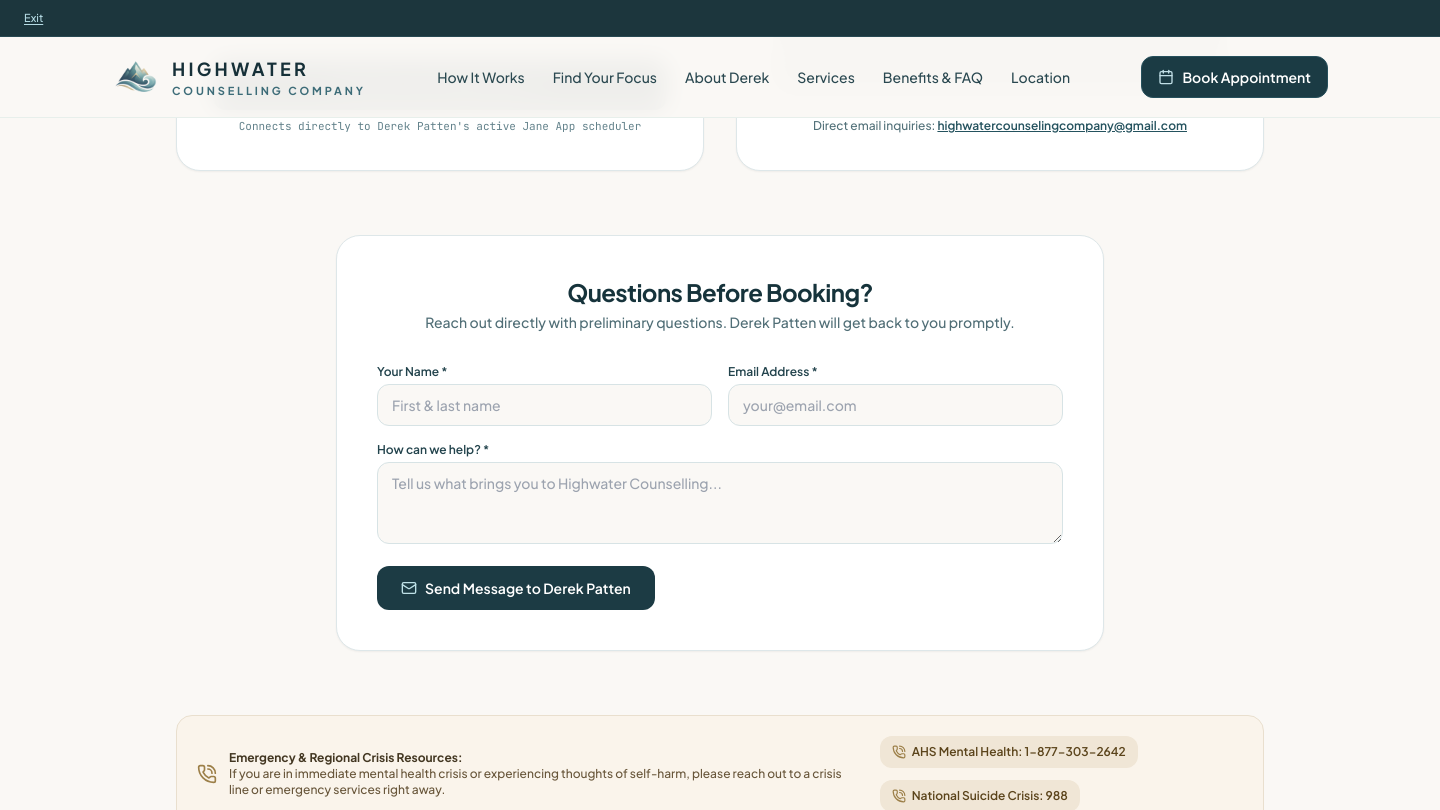
Test case: HighwaterDraft Component › submits inquiry form with valid fields
(page scrolled)
In the field with placeholder "First & last name": (544, 405) top-left (377, 384), bottom-right (712, 426), type "Jane Client"
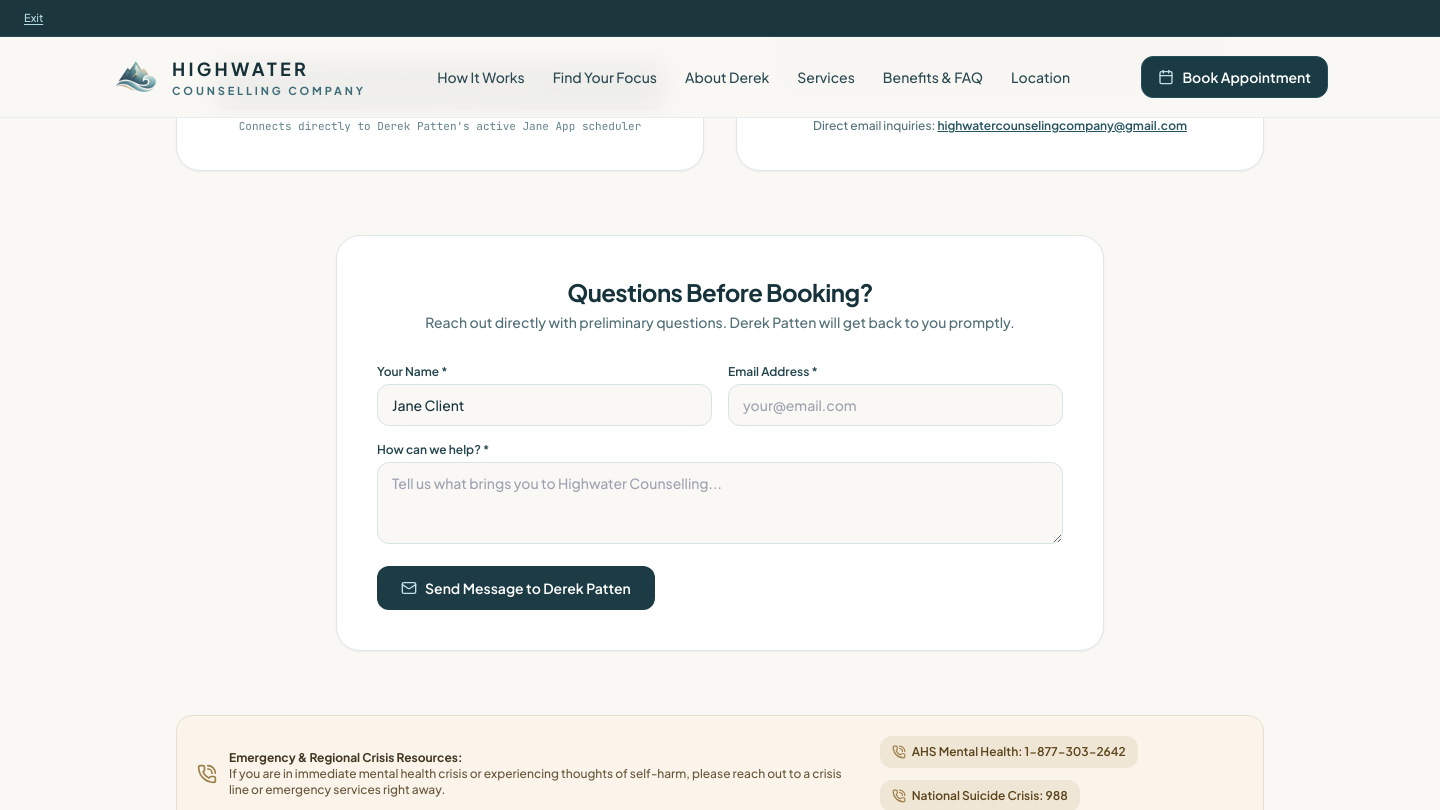
In the field with placeholder "your@email.com": (896, 405) top-left (728, 384), bottom-right (1063, 426), type "jane@example.com"
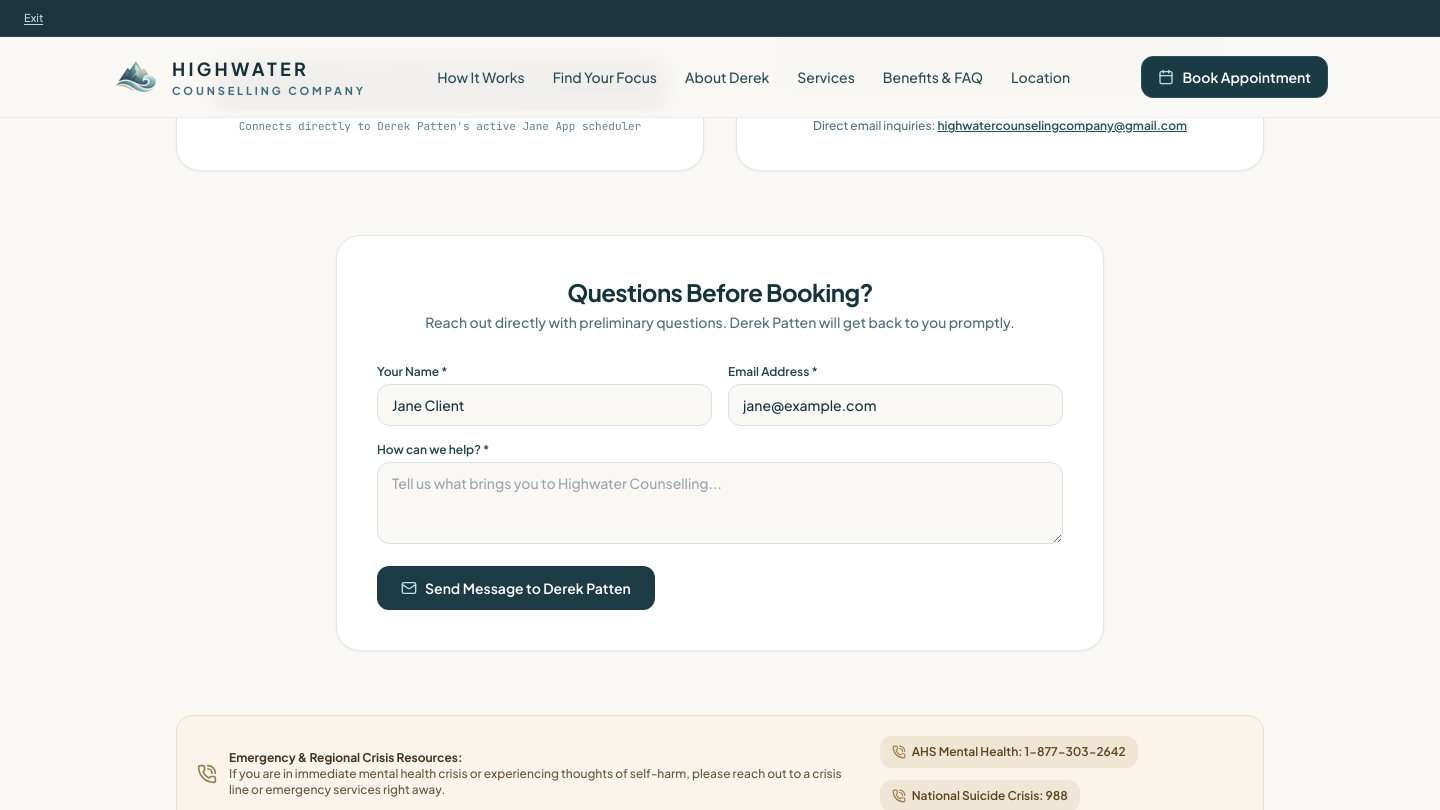
In the text box with placeholder "Tell us what brings you to Highwater Counselling...": (720, 503) top-left (377, 462), bottom-right (1063, 544), type "Hello Derek, I would like to schedule an appointment."
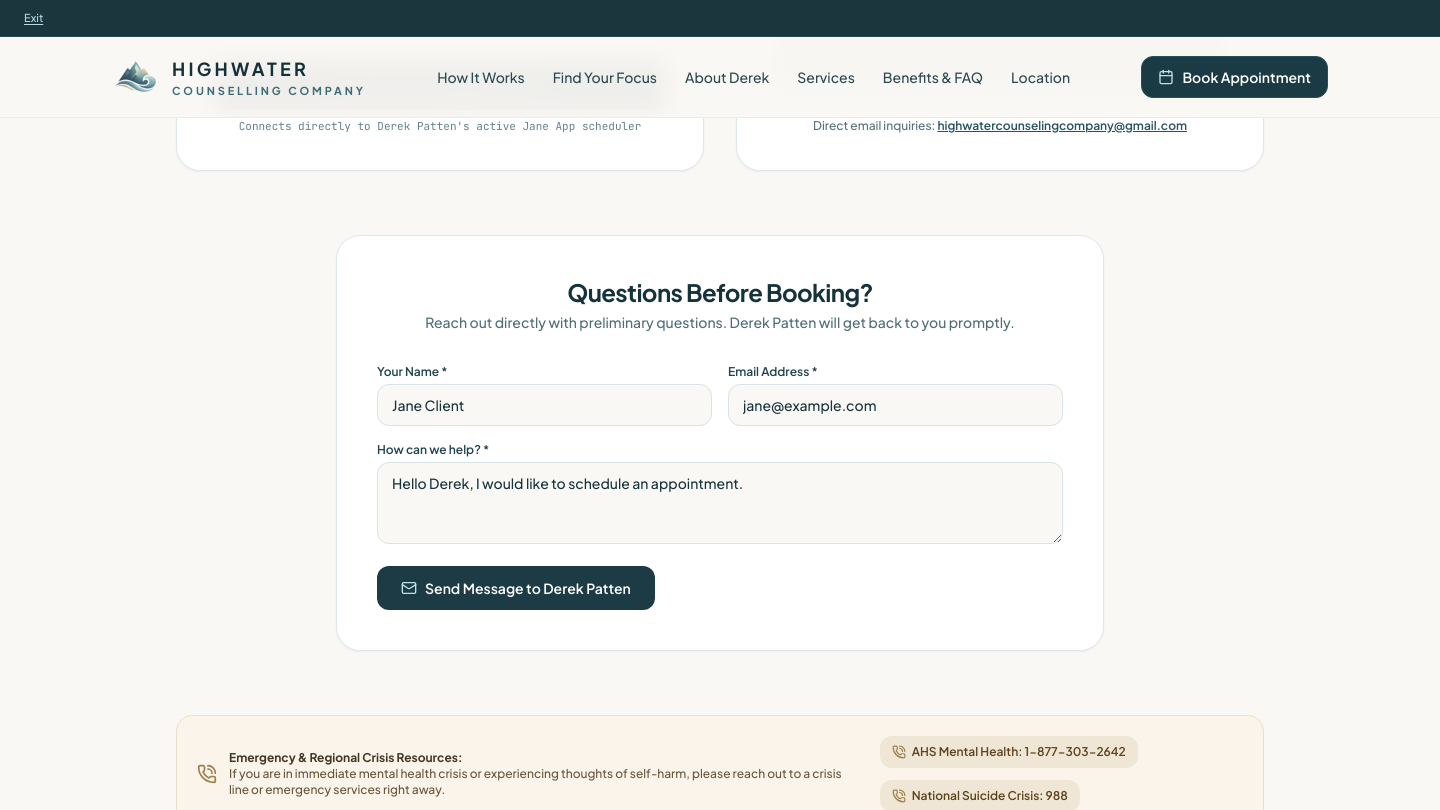
Click the button "Send Message to Derek Patten": (516, 588) top-left (377, 566), bottom-right (655, 610)
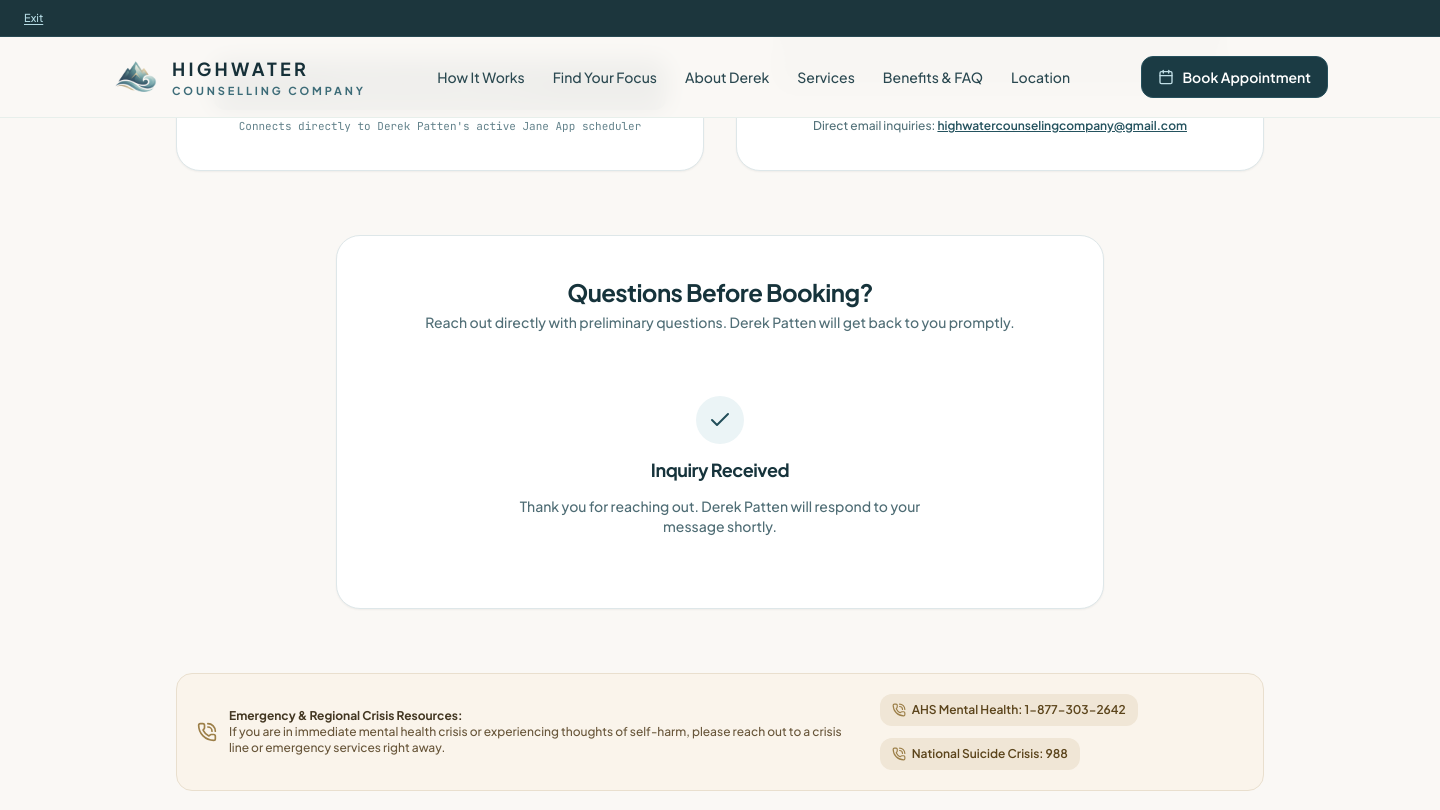
expect the heading "Inquiry Received" is shown: met, box top-left (651, 458), bottom-right (789, 481)
